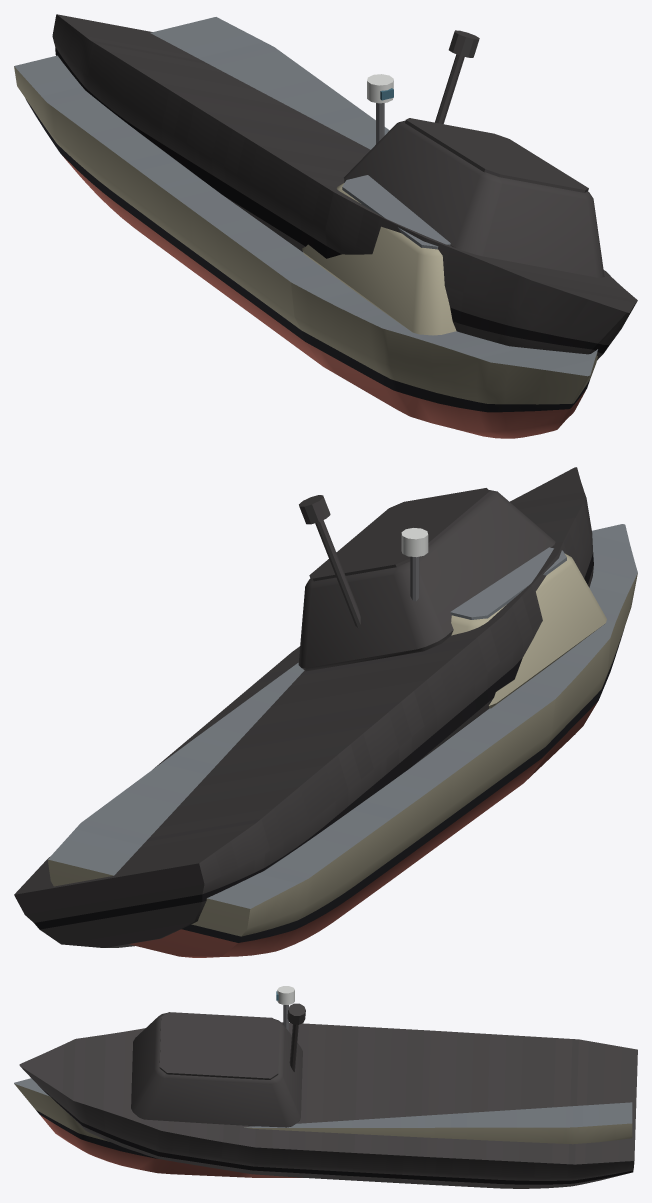
Rendered from seaDrone__mmcm_ariadne.glb.
The picture shows the model from 3 angles, top to bottom: view 1: azimuth 30°, elevation 25°; view 2: azimuth 150°, elevation 25°; view 3: azimuth 270°, elevation 25°; orthographic projection. The views are drawn at different scales.
Parts seen in each view (by area): view 1: Wreck, Hull_Mesh, Radar_Mesh; view 2: Wreck, Hull_Mesh, Radar_Mesh; view 3: Wreck, Hull_Mesh, Radar_Mesh.
Part boxes in pixels (x1,y1,x2,y2): Wreck: (52, 14, 637, 360); Hull_Mesh: (14, 17, 597, 438); Radar_Mesh: (367, 74, 393, 103); Wreck: (14, 467, 593, 947); Hull_Mesh: (47, 524, 637, 957); Radar_Mesh: (401, 528, 428, 557); Wreck: (19, 1003, 637, 1188); Hull_Mesh: (14, 1005, 632, 1177); Radar_Mesh: (276, 986, 294, 1004).
Size of what is drawn, in the model's own units: 3.97 by 4.16 by 12.62.
